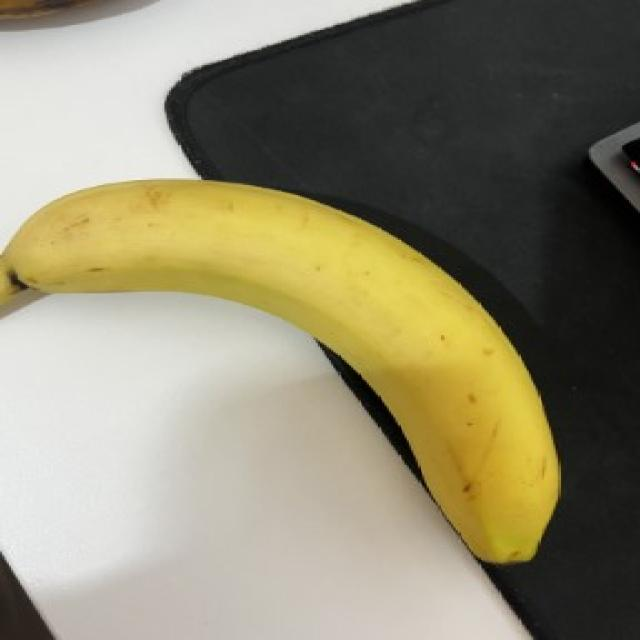Ripe: (0, 138, 590, 582)
